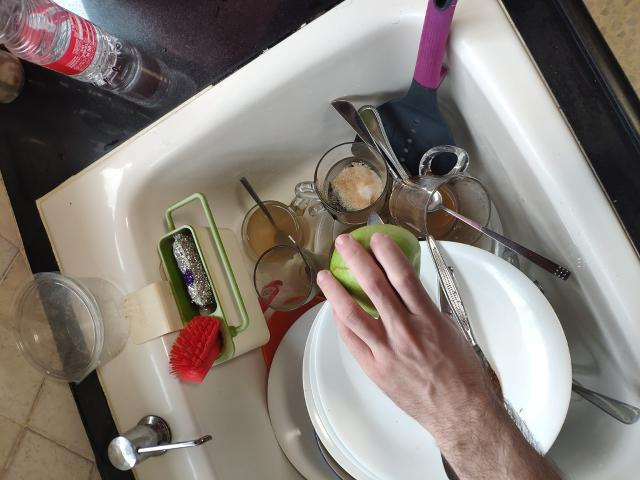apple: (329, 224, 425, 319)
